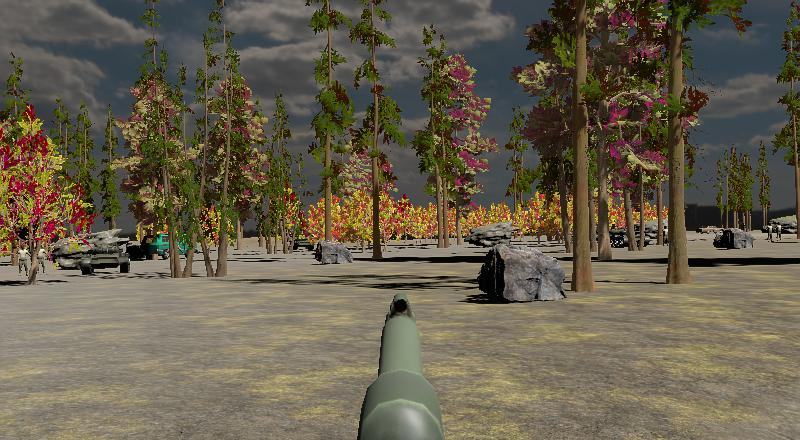Human: (772, 222, 780, 244), (765, 224, 773, 243)
Tank: (79, 243, 132, 278)
car: (144, 232, 191, 260)
